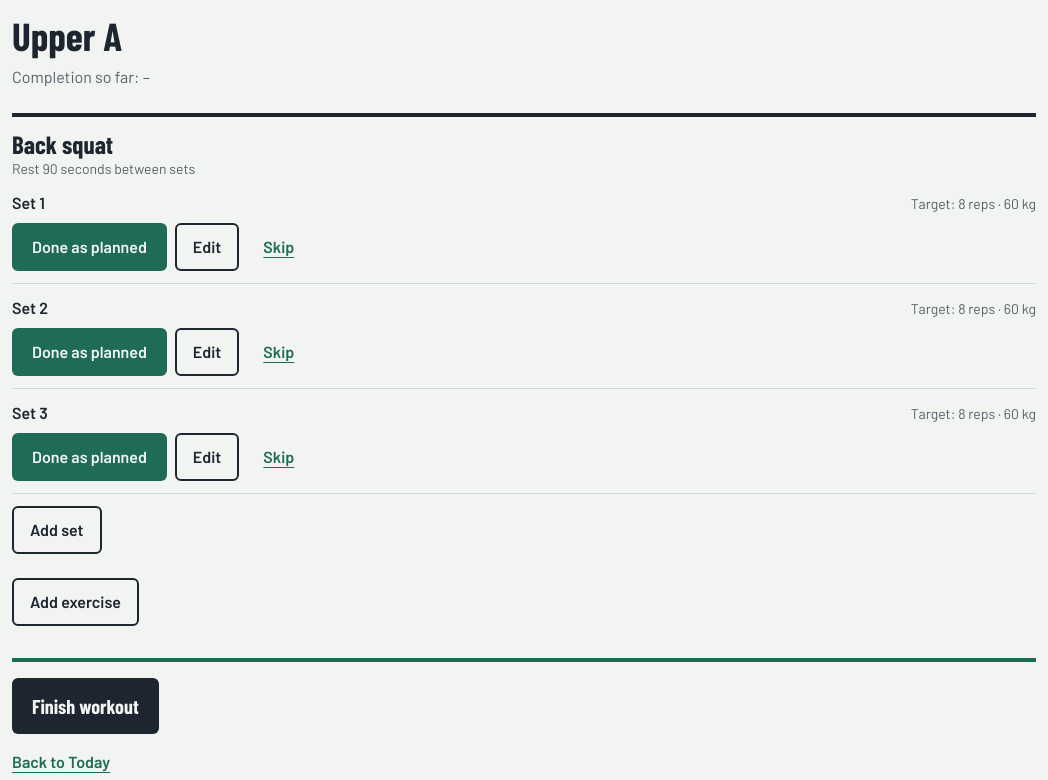
finish › shows an error and stays on the sets when finishing fails
Click the button "Finish workout" at (85, 706), box [12,678,159,734]
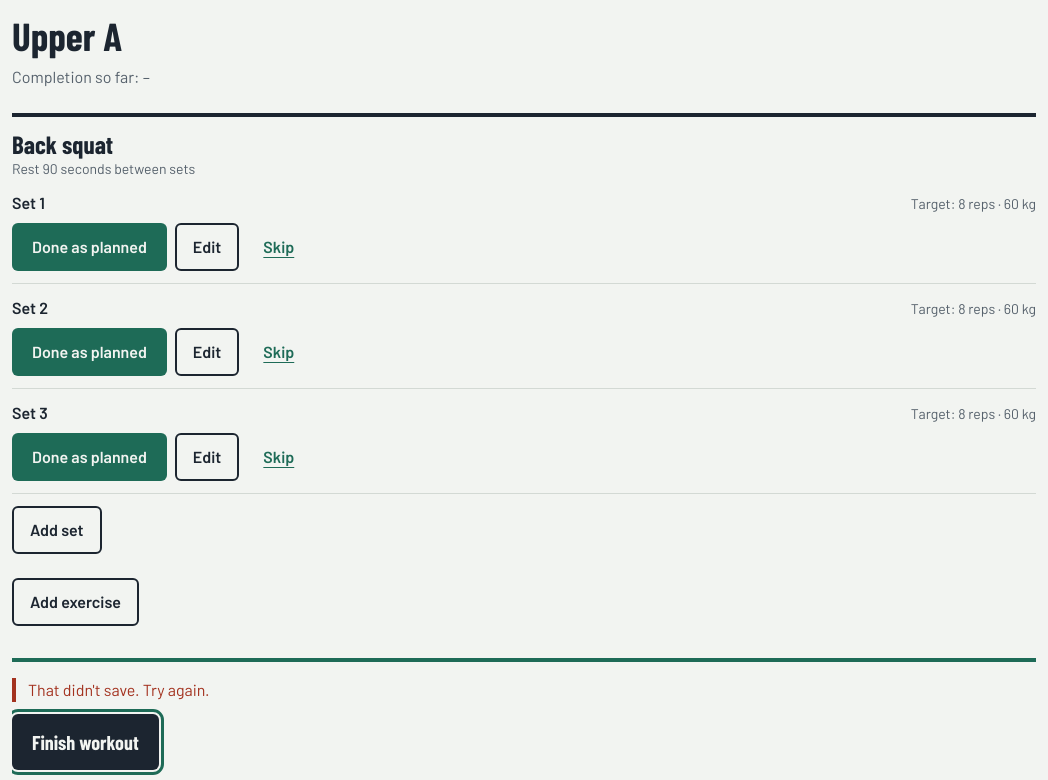
Check: the heading "Back squat" is shown, box [12,129,113,159]
Check: the message reads "That didn't save. Try again.", box [28,680,210,699]
